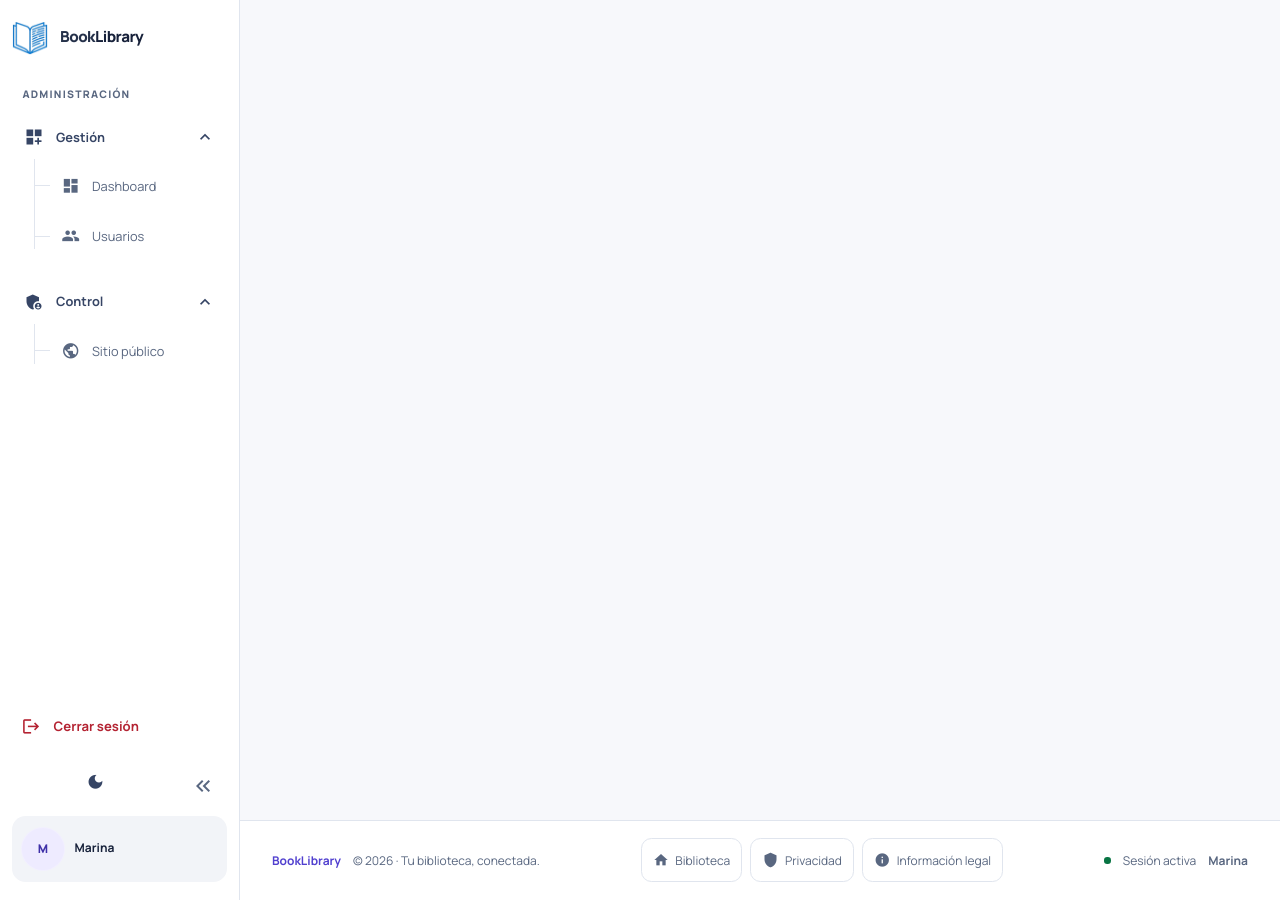
Test: WorkspaceShellComponent › asks for confirmation before requesting logout
Click the button with aria-label "Cerrar sesión".
click(120, 726)  # box [12,704,227,748]
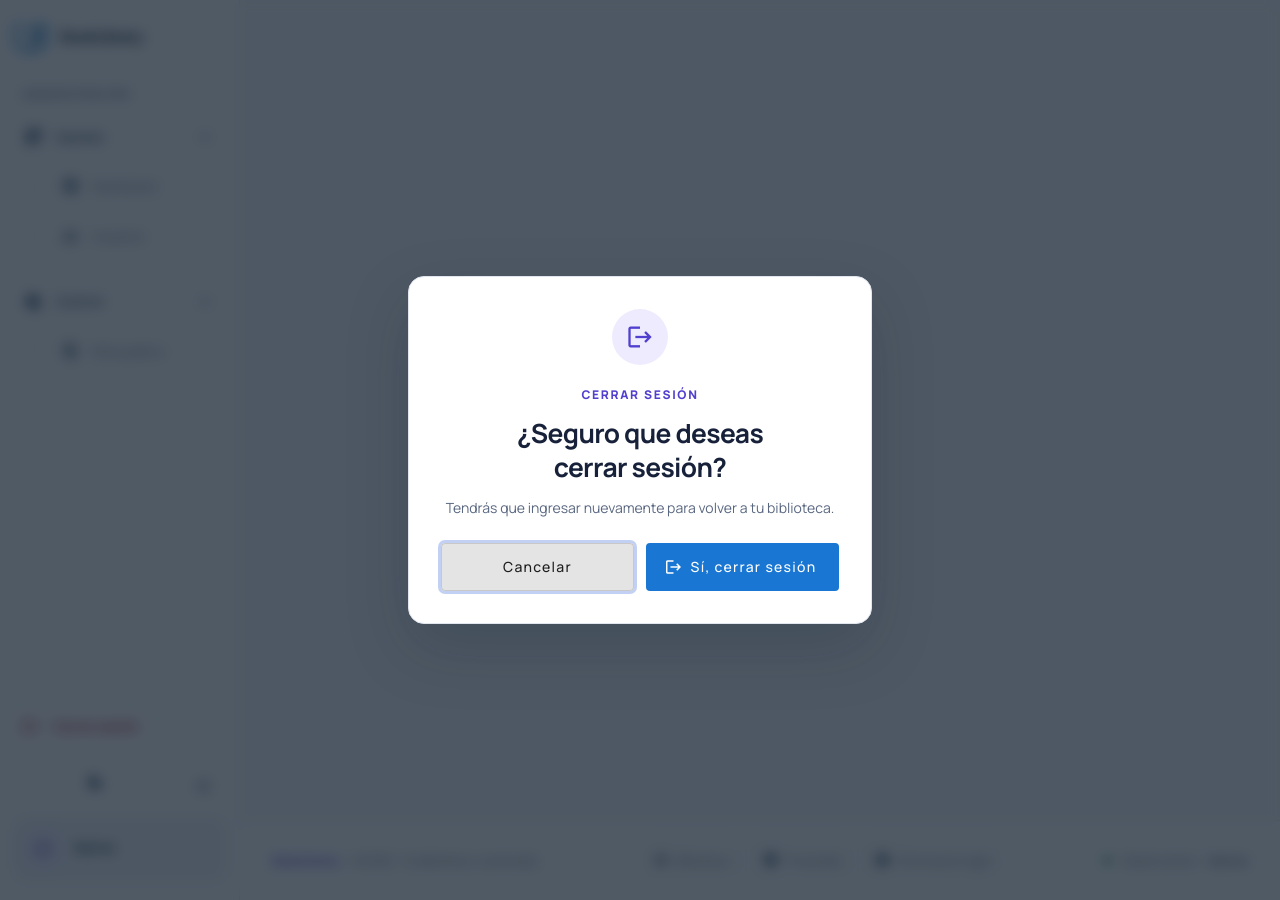
Result: the dialog with class "logout-dialog" is shown at [408,276,872,624]
Result: the dialog with class "logout-dialog" shows "¿Seguro que deseas cerrar sesión?" at [517,415,763,485]
